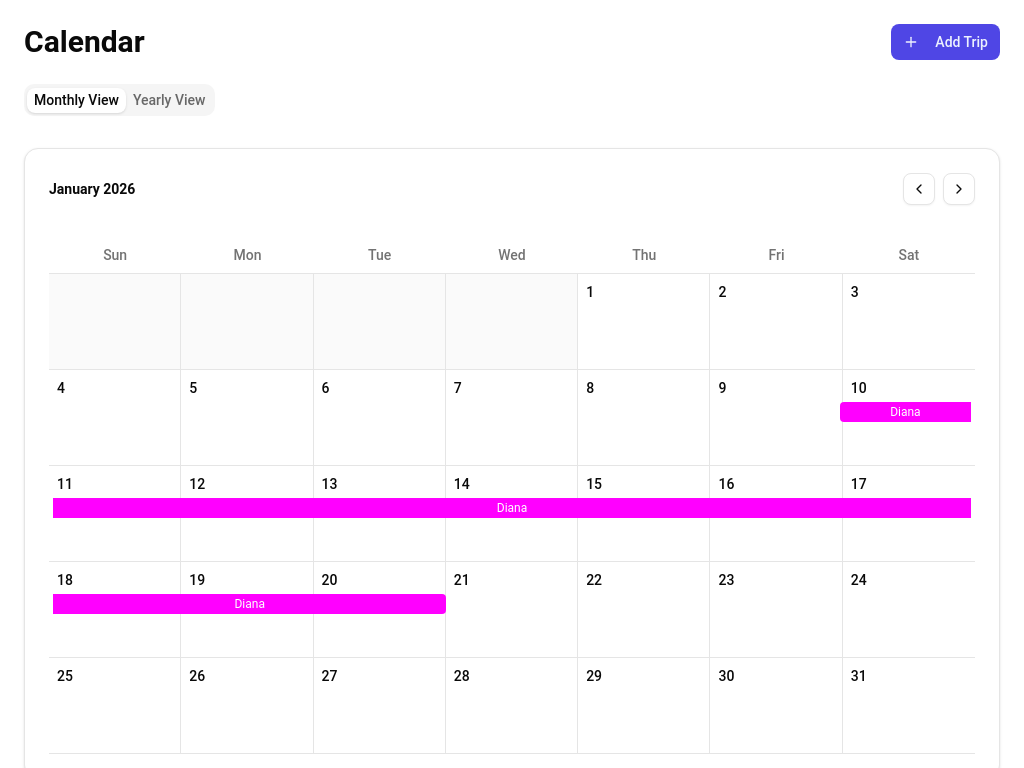
Scenario: CalendarView › does not display notes section in tooltip when trip has no notes
Find and hover over the trip element
Hover over the button "Diana" below "10" at (905, 412), box [840,402,971,422]
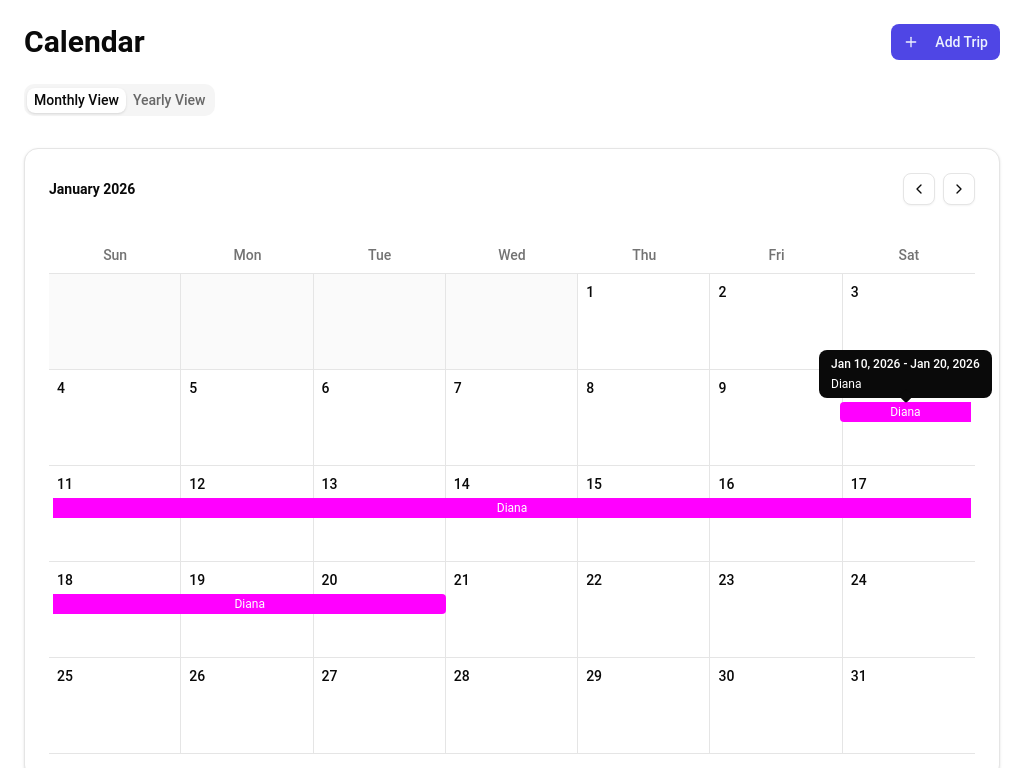
Expected: the text "Jan 10, 2026 - Jan 20, 2026" is shown, [831,356,980,372]
Expected: the text "Diana" is shown, [831,377,862,391]
